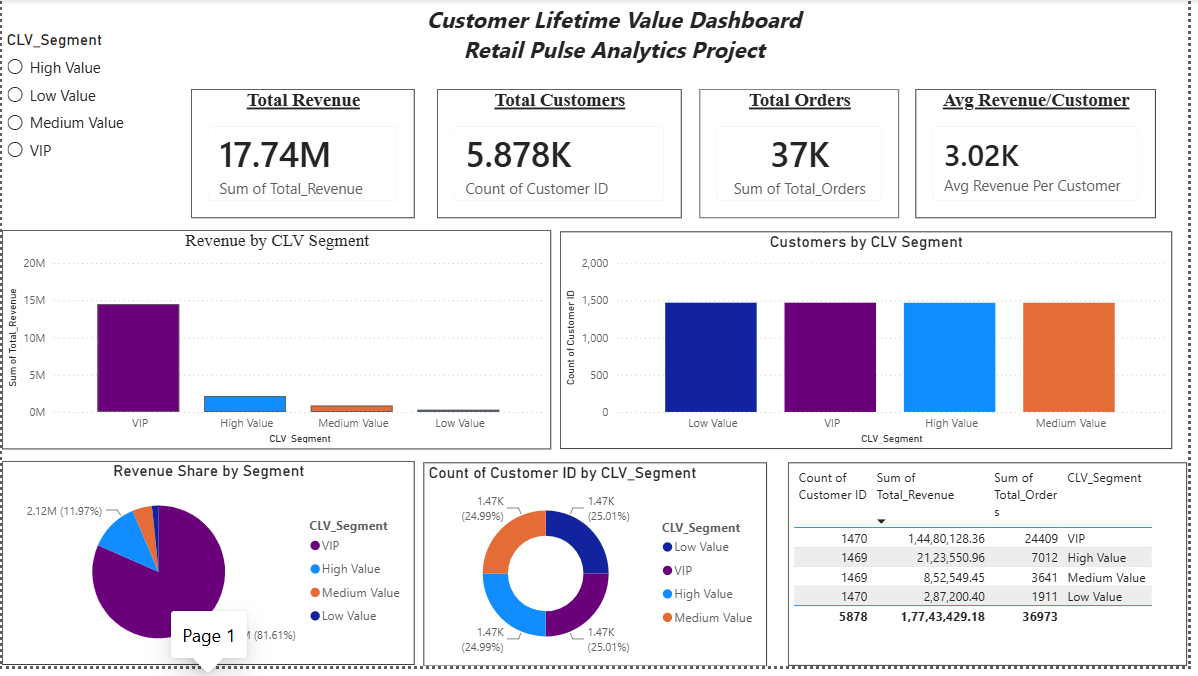

This screenshot's page, from the dashboard's own definition file:
{"tool":"powerbi","page":{"name":"Page 1","canvas":[1280,720],"ordinal":0},"visuals":[{"type":"cardVisual","title":"Total Revenue","fields":{"Data":["Sum(customer_clv.Total_Revenue)"]},"box":[204,97.2,241.3,139.3],"z":0},{"type":"cardVisual","title":"Total Customers","fields":{"Data":["Count(customer_clv.Customer ID)"]},"box":[469.6,97.2,263.9,139.3],"z":1000},{"type":"cardVisual","title":"Total Orders","fields":{"Data":["Sum(customer_clv.Total_Orders)"]},"box":[752.9,97.2,215.4,139.3],"z":2000},{"type":"clusteredColumnChart","title":"Revenue by CLV Segment","fields":{"Category":["customer_clv.CLV_Segment"],"Y":["Sum(customer_clv.Total_Revenue)"]},"box":[0,249.4,592.6,236.4],"z":3000},{"type":"clusteredColumnChart","title":"Customers by CLV Segment","fields":{"Category":["customer_clv.CLV_Segment"],"Y":["CountNonNull(customer_clv.Customer ID)"]},"box":[602.4,251,660.6,234.8],"z":4000},{"type":"donutChart","fields":{"Category":["customer_clv.CLV_Segment"],"Y":["CountNonNull(customer_clv.Customer ID)"]},"box":[455,500.3,370.8,220.2],"z":5000},{"type":"textbox","box":[366.6,0,589.6,96.4],"z":6000},{"type":"listSlicer","fields":{"Values":["customer_clv.CLV_Segment"]},"box":[0,34,177.6,149.3],"z":7000},{"type":"tableEx","fields":{"Values":["CountNonNull(customer_clv.Customer ID)","Sum(customer_clv.Total_Revenue)","Sum(customer_clv.Total_Orders)","customer_clv.CLV_Segment"]},"box":[848.5,500.8,430.9,219.2],"z":8000},{"type":"pieChart","title":"Revenue Share by Segment","fields":{"Category":["customer_clv.CLV_Segment"],"Y":["Sum(customer_clv.Total_Revenue)"]},"box":[0,498.7,445.3,220.2],"z":9000},{"type":"cardVisual","title":"Avg Revenue/Customer","fields":{"Data":["customer_clv.Avg Revenue Per Customer"]},"box":[986.1,97.2,259.1,139.3],"z":10000}]}

Visuals, with their boxes in screenshot pixels (x1, y1, x2, y2), scaled from the page's 1280x720 canvas onto the 1198x676 screenshot:
"Total Revenue" cardVisual: <bbox>191, 91, 417, 222</bbox>
"Total Customers" cardVisual: <bbox>440, 91, 687, 222</bbox>
"Total Orders" cardVisual: <bbox>705, 91, 906, 222</bbox>
"Revenue by CLV Segment" clusteredColumnChart: <bbox>0, 234, 555, 456</bbox>
"Customers by CLV Segment" clusteredColumnChart: <bbox>564, 236, 1182, 456</bbox>
donutChart - customer_clv.CLV_Segment x CountNonNull(customer_clv.Customer ID): <bbox>426, 470, 773, 675</bbox>
textbox: <bbox>343, 0, 895, 91</bbox>
listSlicer - customer_clv.CLV_Segment: <bbox>0, 32, 166, 172</bbox>
tableEx - CountNonNull(customer_clv.Customer ID) x Sum(customer_clv.Total_Revenue): <bbox>794, 470, 1197, 675</bbox>
"Revenue Share by Segment" pieChart: <bbox>0, 468, 417, 675</bbox>
"Avg Revenue/Customer" cardVisual: <bbox>923, 91, 1165, 222</bbox>
